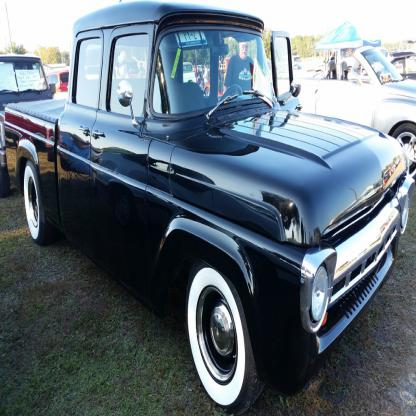Truck: (3, 0, 415, 415), (271, 47, 415, 177)
